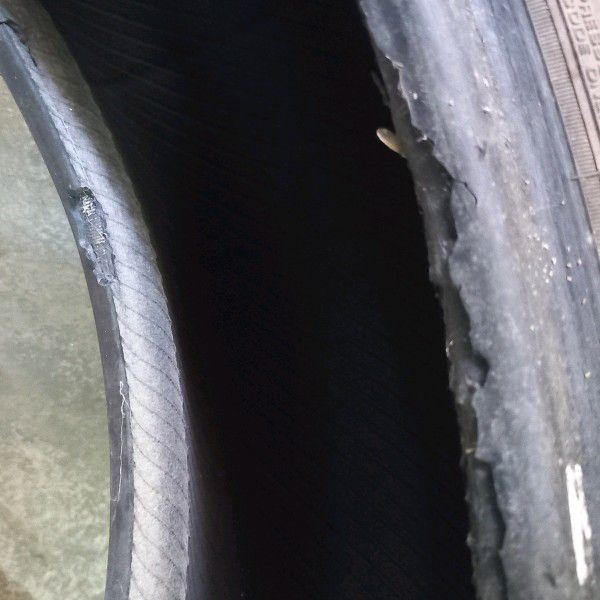bead_damage: (362, 9, 512, 595), (69, 185, 122, 306)
